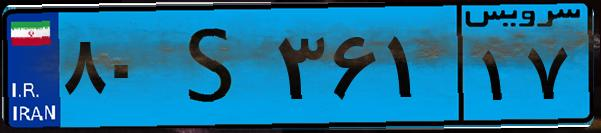0: (110, 28, 158, 98)
1: (385, 28, 445, 110), (475, 38, 525, 113)
3: (270, 28, 330, 110)
6: (330, 28, 385, 110)
7: (525, 38, 570, 115)
8: (57, 26, 110, 100)
S: (158, 12, 270, 120)
